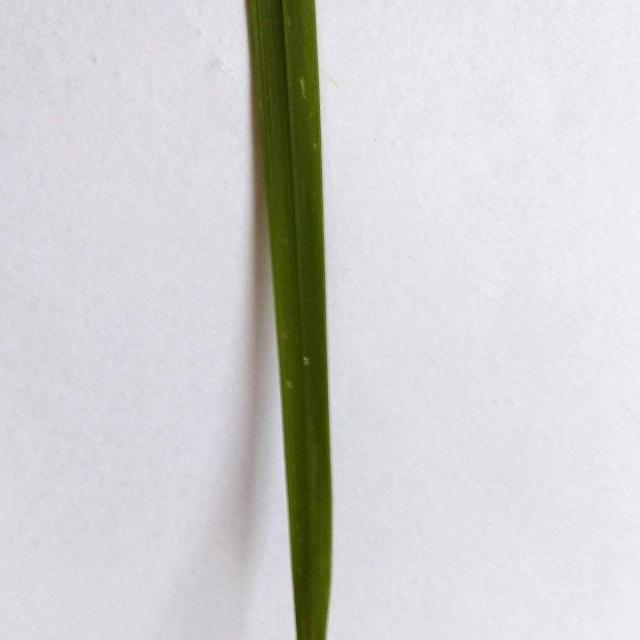healthy: (222, 0, 384, 640)
